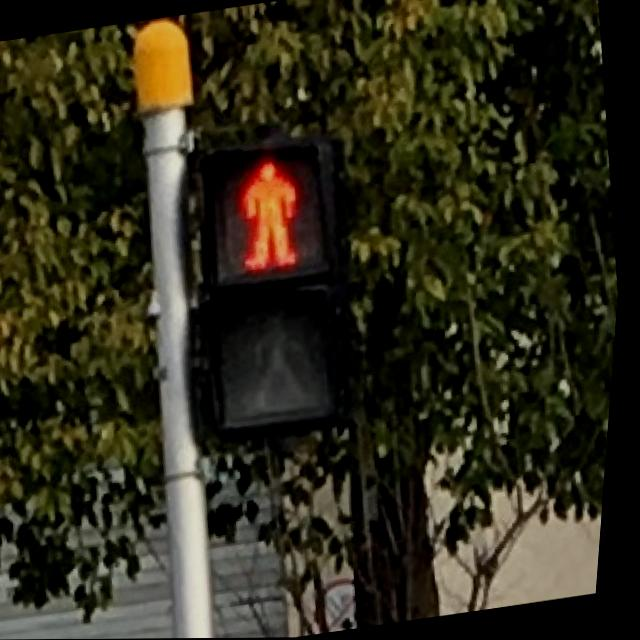red_light: (212, 141, 336, 282)
